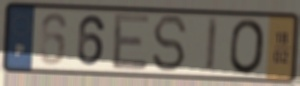6: (38, 11, 68, 68), (76, 13, 106, 68)
E: (111, 11, 152, 72)
I: (203, 15, 220, 75)
O: (228, 17, 267, 77)
S: (150, 14, 189, 74)
